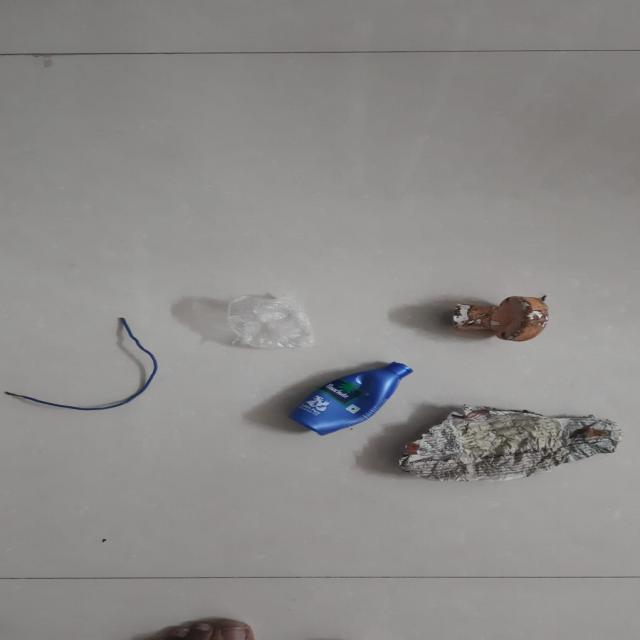dry: (400, 391, 638, 498), (196, 287, 362, 361), (282, 361, 430, 439), (424, 293, 561, 360)
